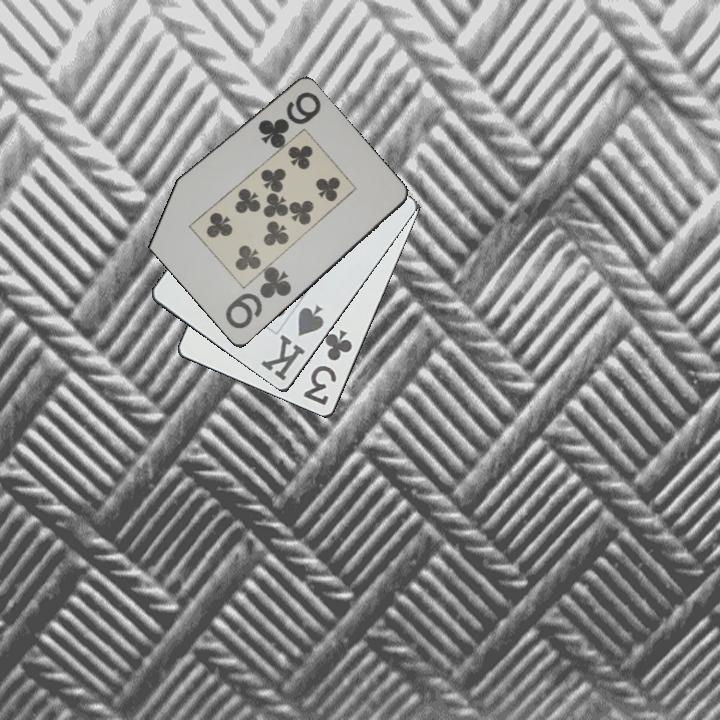3c: (300, 326, 355, 409)
9c: (221, 264, 295, 332), (254, 89, 325, 150)
Ks: (257, 301, 327, 384)
